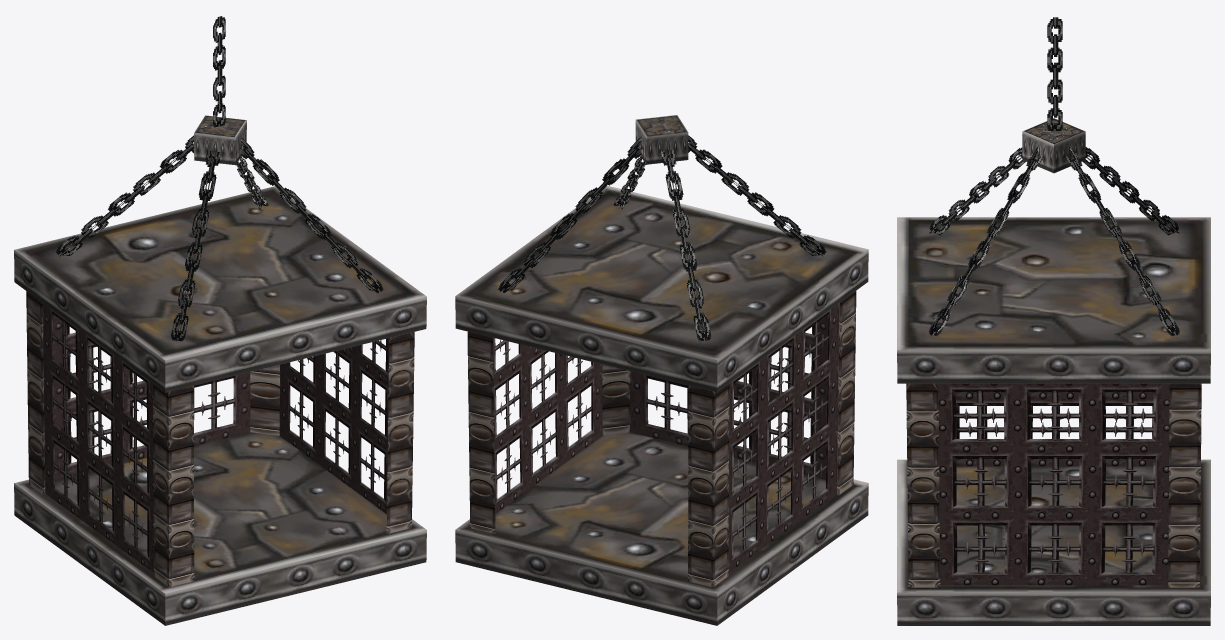
File: hangingcage02.obj
The picture shows the model from 3 angles, left to right: view 1: azimuth 30°, elevation 25°; view 2: azimuth 150°, elevation 25°; view 3: azimuth 270°, elevation 25°; orthographic projection. The views are drawn at different scales.
Parts seen in each view (by area): view 1: HANGINGCAGE020, HANGINGCAGE022, HANGINGCAGE021, HANGINGCAGE023; view 2: HANGINGCAGE020, HANGINGCAGE022, HANGINGCAGE021, HANGINGCAGE023; view 3: HANGINGCAGE020, HANGINGCAGE022, HANGINGCAGE021, HANGINGCAGE023.
Part boxes in pixels (x1=…): HANGINGCAGE020: x1=14, y1=115, x2=426, y2=625; HANGINGCAGE022: x1=43, y1=303, x2=389, y2=572; HANGINGCAGE021: x1=26, y1=291, x2=414, y2=587; HANGINGCAGE023: x1=56, y1=16, x2=383, y2=341; HANGINGCAGE020: x1=455, y1=115, x2=868, y2=625; HANGINGCAGE022: x1=493, y1=303, x2=839, y2=572; HANGINGCAGE021: x1=467, y1=291, x2=856, y2=587; HANGINGCAGE023: x1=498, y1=135, x2=826, y2=341; HANGINGCAGE020: x1=897, y1=118, x2=1210, y2=625; HANGINGCAGE022: x1=938, y1=383, x2=1169, y2=585; HANGINGCAGE021: x1=906, y1=383, x2=1201, y2=587; HANGINGCAGE023: x1=928, y1=17, x2=1179, y2=336.
Bounding box in the file's own units: 3.09 × 5.89 × 3.09.
4 materials, 4 textured.
